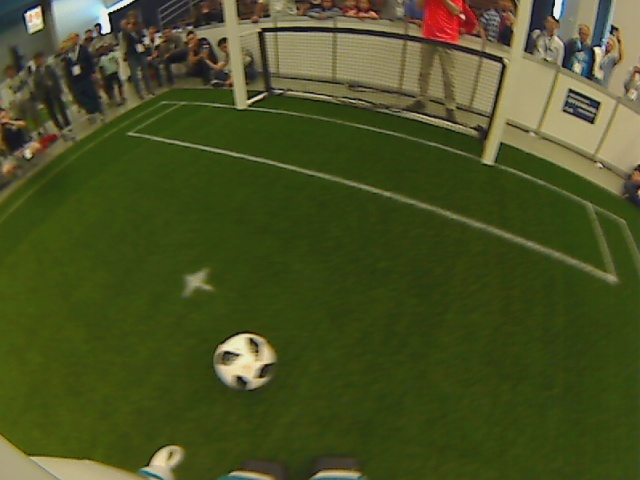ball: (211, 331, 278, 392)
